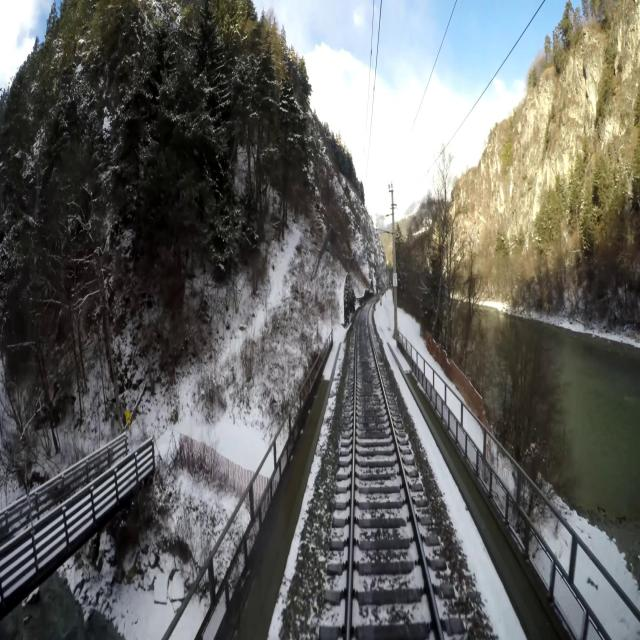rail-track: (350, 299, 439, 639)
